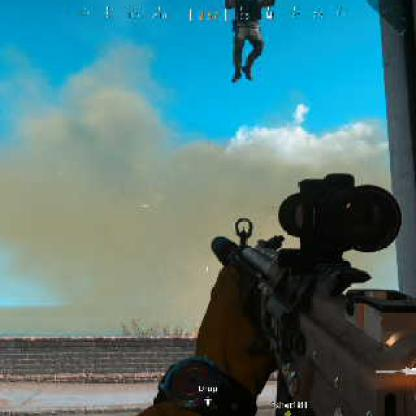enemy: (223, 1, 274, 81)
